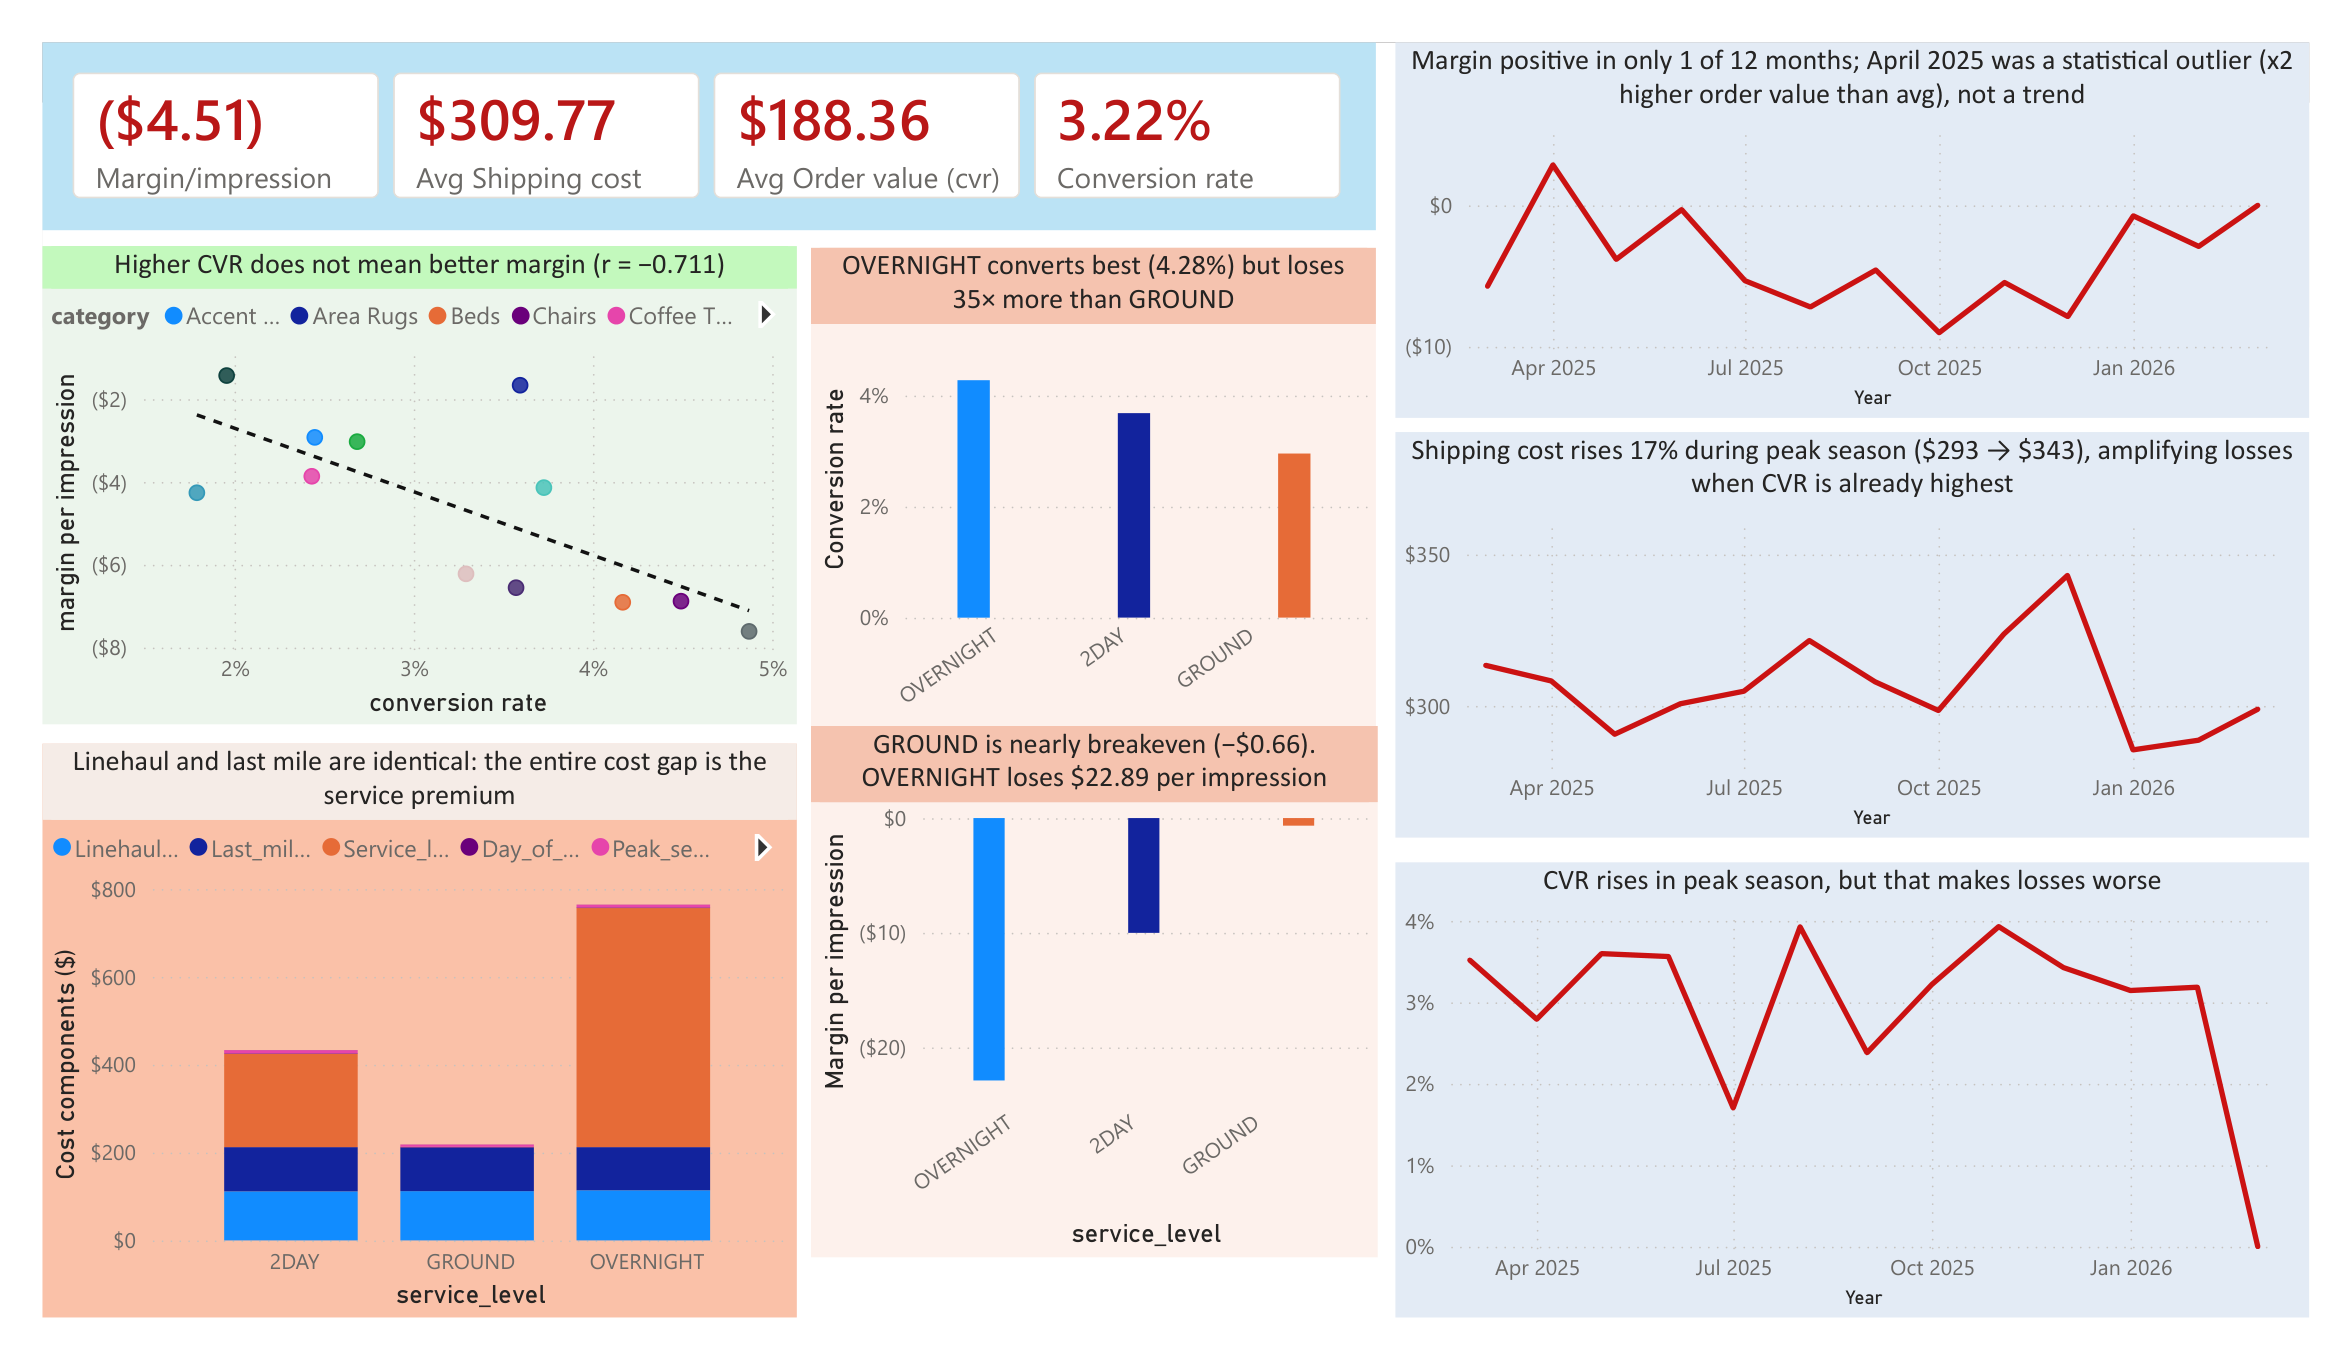

The page's visual inventory and layout, read from the dashboard file:
{"tool":"powerbi","page":{"name":"Executive Dashboard","canvas":[1280,720],"ordinal":0},"visuals":[{"type":"cardVisual","fields":{"Data":["Avg(events_small_clean.gross_margin)","Avg(events_small_clean.actual_shipping_cost)","events_small_clean.Avg Order Value (cvr)","Avg(events_small_clean.cvr)"]},"box":[0,0,753.2,105.8],"z":0},{"type":"lineChart","title":"Margin positive in only 1 of 12 months; April 2025 was a statistical outlier (x2 higher order value than avg), not a trend","fields":{"Y":["Avg(events_small_clean.gross_margin)"],"Category":["events_small_clean.timestamp.Variation.Date Hierarchy.Year","events_small_clean.timestamp.Variation.Date Hierarchy.Quarter","events_small_clean.timestamp.Variation.Date Hierarchy.Month"]},"box":[764.3,0,515.7,211.7],"z":1000},{"type":"clusteredColumnChart","title":"OVERNIGHT converts best (4.28%) but loses 35× more than GROUND","fields":{"Y":["Avg(events_small_clean.conversion_event)"],"Category":["events_small_clean.service_level"],"Series":["events_small_clean.service_level"]},"box":[434.5,115.7,318.8,295.4],"z":2000},{"type":"lineChart","title":"Shipping cost rises 17% during peak season ($293 → $343), amplifying losses when CVR is already highest","fields":{"Y":["Avg(events_small_clean.actual_shipping_cost)"],"Category":["events_small_clean.timestamp.Variation.Date Hierarchy.Year","events_small_clean.timestamp.Variation.Date Hierarchy.Month"]},"box":[764.3,220.3,515.7,228.9],"z":3000},{"type":"lineChart","title":"CVR rises in peak season, but that makes losses worse","fields":{"Y":["Avg(events_small_clean.conversion_event)"],"Category":["events_small_clean.timestamp.Variation.Date Hierarchy.Year","events_small_clean.timestamp.Variation.Date Hierarchy.Month"]},"box":[764.3,462.8,515.7,257.2],"z":4000},{"type":"clusteredColumnChart","title":"GROUND is nearly breakeven (−$0.66). OVERNIGHT loses $22.89 per impression","fields":{"Y":["Avg(events_small_clean.gross_margin)"],"Category":["events_small_clean.service_level"],"Series":["events_small_clean.service_level"]},"box":[434,385.6,319.6,300],"z":5000},{"type":"lineStackedColumnComboChart","title":"Linehaul and last mile are identical: the entire cost gap is the service premium","fields":{"Category":["events_small_clean.service_level"],"Y":["Avg(events_small_clean.linehaul_cost)","Avg(events_small_clean.last_mile_cost)","Avg(events_small_clean.service_level_premium)","Avg(events_small_clean.day_of_week_surcharge)","Avg(events_small_clean.peak_season_surcharge)","Avg(events_small_clean.warehouse_delay_surcharge)"]},"box":[0,395.9,425.8,323.7],"z":6000},{"type":"scatterChart","title":"Higher CVR does not mean better margin (r = −0.711)","fields":{"X":["events_small_clean.cvr"],"Series":["items_small.category"],"Y":["Avg(events_small_clean.margin)"]},"box":[0,115.5,425.8,269.1],"z":7000}]}

Visuals, with their boxes in screenshot pixels (x1, y1, x2, y2), scaled from the page's 1280x720 canvas onto the 2352x1360 screenshot:
cardVisual - Avg(events_small_clean.gross_margin) x Avg(events_small_clean.actual_shipping_cost): (0, 0, 1384, 200)
"Margin positive in only 1 of 12 months; April 2025 was a statistical outlier (x2 higher order value than avg), not a trend" lineChart: (1404, 0, 2351, 400)
"OVERNIGHT converts best (4.28%) but loses 35× more than GROUND" clusteredColumnChart: (798, 219, 1384, 777)
"Shipping cost rises 17% during peak season ($293 → $343), amplifying losses when CVR is already highest" lineChart: (1404, 416, 2351, 848)
"CVR rises in peak season, but that makes losses worse" lineChart: (1404, 874, 2351, 1359)
"GROUND is nearly breakeven (−$0.66). OVERNIGHT loses $22.89 per impression" clusteredColumnChart: (797, 728, 1385, 1295)
"Linehaul and last mile are identical: the entire cost gap is the service premium" lineStackedColumnComboChart: (0, 748, 782, 1359)
"Higher CVR does not mean better margin (r = −0.711)" scatterChart: (0, 218, 782, 726)
